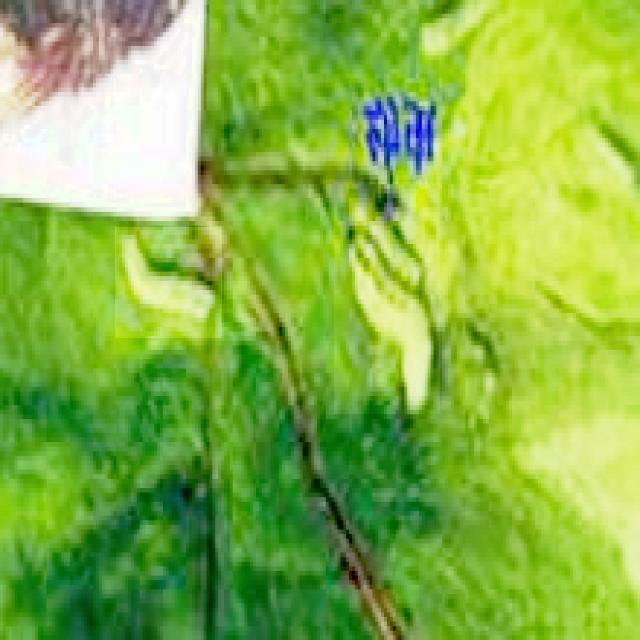whorl-maggot: (334, 183, 440, 415), (115, 227, 222, 338)
